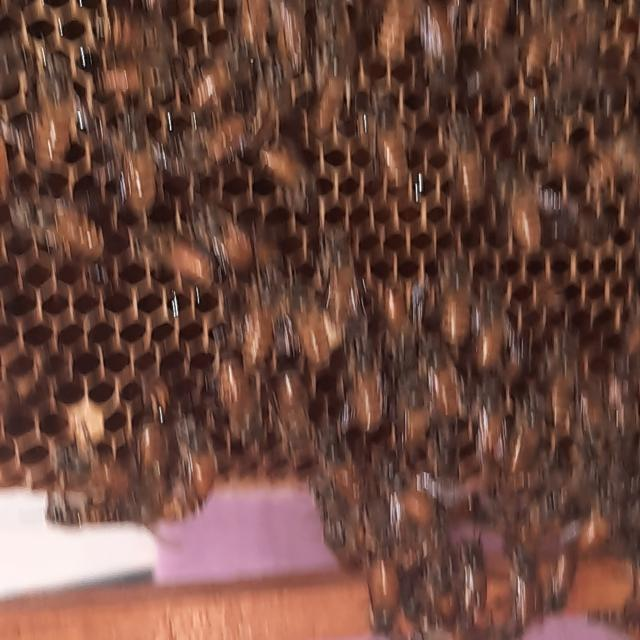honeybee: (6, 198, 114, 259), (42, 489, 170, 533), (34, 50, 79, 170), (276, 368, 325, 470), (115, 96, 156, 216), (176, 417, 227, 508), (197, 196, 264, 264), (367, 98, 416, 190), (215, 354, 259, 450), (499, 388, 547, 476), (184, 46, 254, 106), (143, 228, 220, 282), (130, 408, 176, 498), (379, 270, 423, 361), (441, 111, 484, 204), (422, 330, 469, 413), (502, 162, 546, 250), (321, 223, 364, 313), (234, 269, 277, 356), (291, 280, 333, 368), (396, 371, 432, 469), (346, 346, 385, 436), (197, 110, 267, 160), (315, 39, 353, 128), (96, 61, 174, 103), (535, 103, 578, 179), (58, 446, 130, 491), (523, 6, 565, 81), (100, 6, 182, 43), (321, 478, 358, 559), (416, 0, 462, 65), (366, 558, 404, 636), (594, 137, 640, 200), (549, 532, 586, 606), (457, 530, 490, 611), (374, 0, 415, 64), (441, 260, 474, 339), (257, 142, 317, 185), (278, 0, 311, 77), (510, 549, 544, 618), (386, 487, 443, 528), (478, 288, 508, 363), (480, 372, 506, 457), (236, 0, 272, 55), (462, 607, 520, 640), (475, 0, 510, 52)
